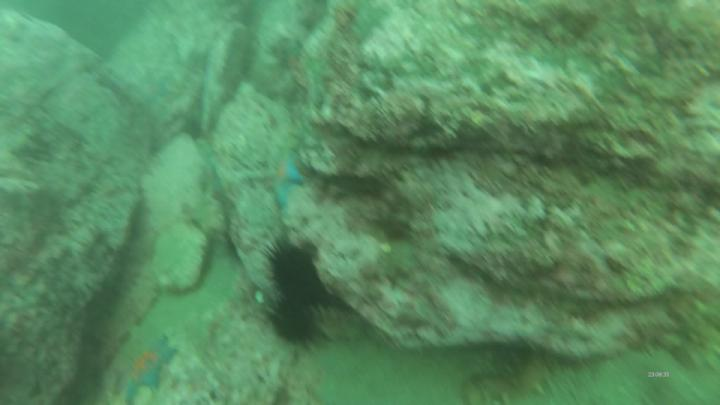echinus: (261, 231, 335, 312), (268, 301, 335, 355)
starfish: (126, 334, 178, 405), (260, 148, 308, 212)
